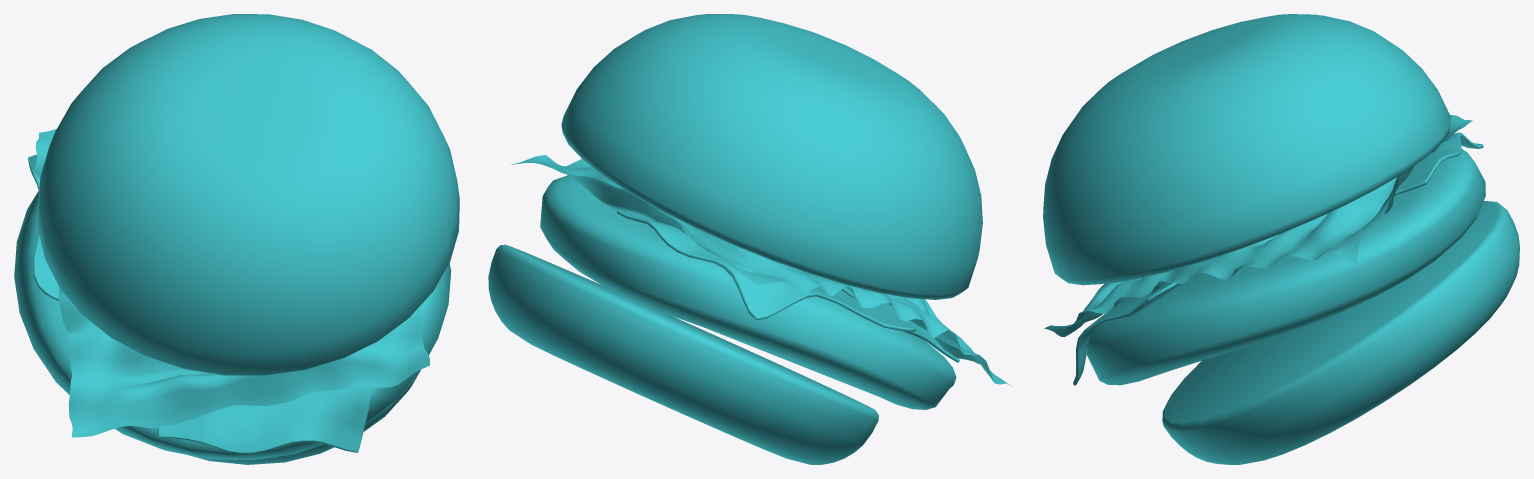
The model's file is SM_Big_Burger_01.FBX.
The picture shows the model from 3 angles, left to right: view 1: azimuth 30°, elevation 25°; view 2: azimuth 150°, elevation 25°; view 3: azimuth 270°, elevation 25°; orthographic projection. The views are drawn at different scales.
Visible parts, largest first — view 1: SM_Big_Burger_01_LOD0; view 2: SM_Big_Burger_01_LOD0; view 3: SM_Big_Burger_01_LOD0.
Boxes of the visible parts, bbox=[...] form: SM_Big_Burger_01_LOD0: bbox=[14, 14, 459, 464]; SM_Big_Burger_01_LOD0: bbox=[488, 14, 1012, 464]; SM_Big_Burger_01_LOD0: bbox=[1043, 14, 1519, 464].
Size of the model in its own units: 198 by 195 by 182.
